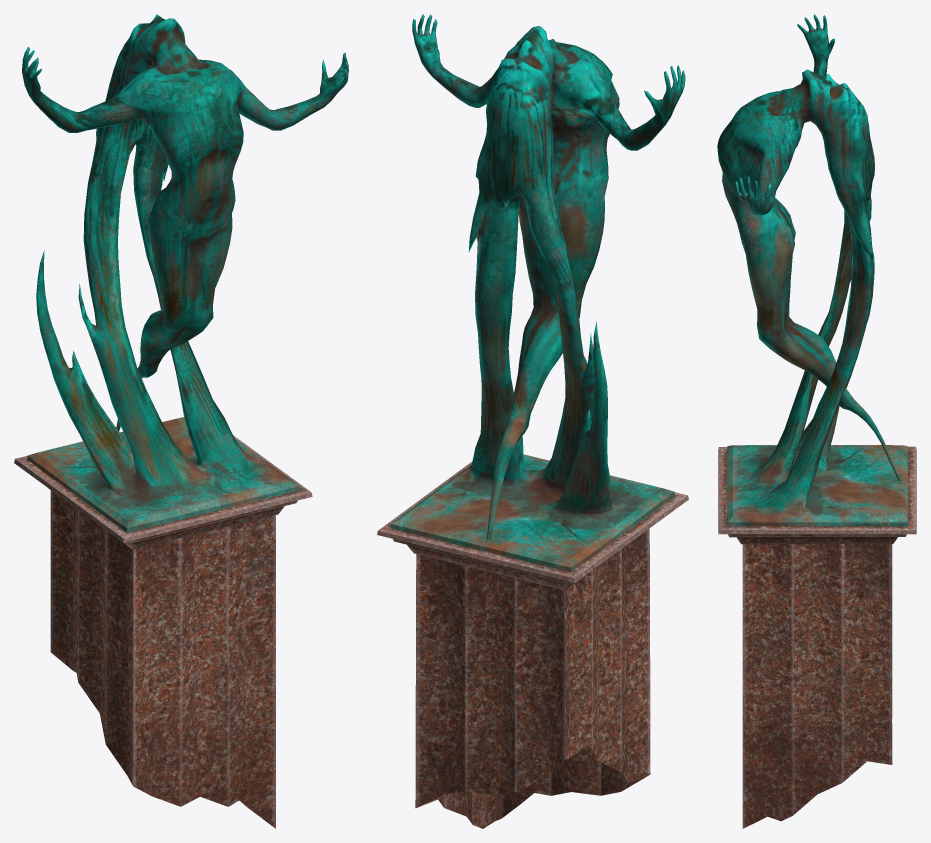
Rendered from Statue.glb.
3 renders of one model, left to right at view 1: azimuth 30°, elevation 25°; view 2: azimuth 150°, elevation 25°; view 3: azimuth 270°, elevation 25°, orthographic. The views are drawn at different scales.
Parts seen in each view (by area): view 1: untitled; view 2: untitled; view 3: untitled.
Part boxes in pixels (box(x1,y1,x2,y2)): untitled: box(14, 14, 348, 828); untitled: box(377, 14, 688, 828); untitled: box(717, 14, 916, 828).
Size of the model in its own units: 128 by 339 by 84.24.
Materials: 1 (1 with a texture image).
